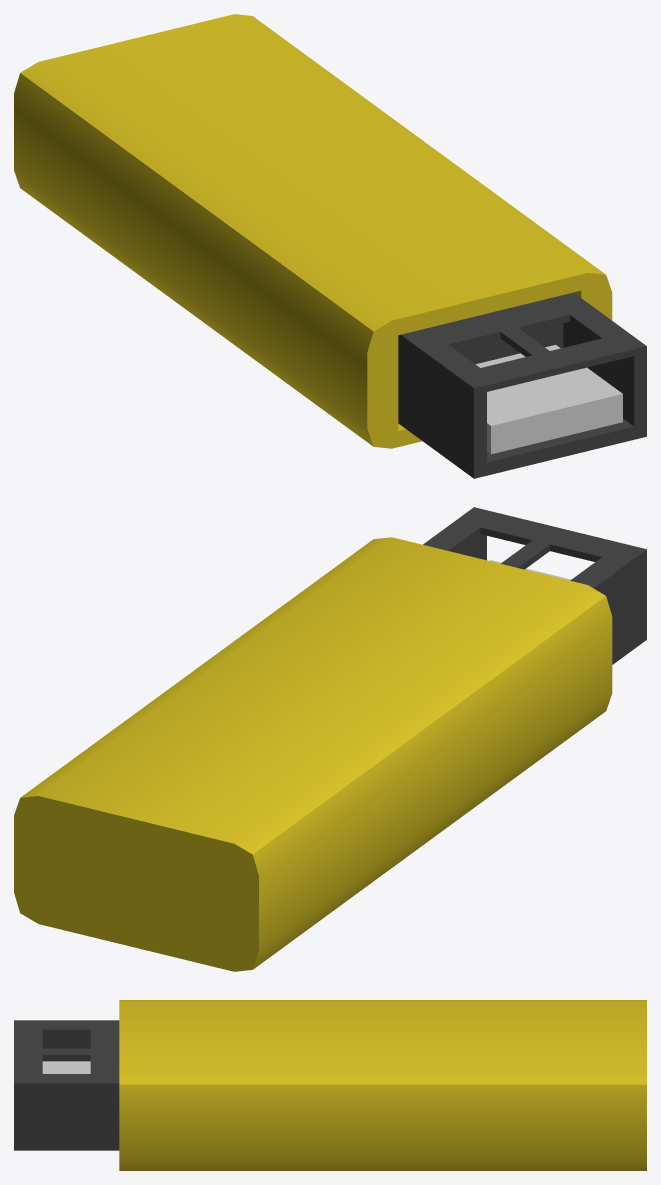
File: Usb.fbx
3 views of the same model, one above another, from view 1: azimuth 30°, elevation 25°; view 2: azimuth 150°, elevation 25°; view 3: azimuth 270°, elevation 25° (orthographic). The views are drawn at different scales.
Visible parts, largest first — view 1: Box001; view 2: Box001; view 3: Box001.
Boxes of the visible parts, x1,y1,x2,y2 form: Box001: (14, 14, 646, 478); Box001: (14, 507, 646, 971); Box001: (14, 1000, 646, 1170).
Bounding box in the file's own units: 2 × 1 × 6.
